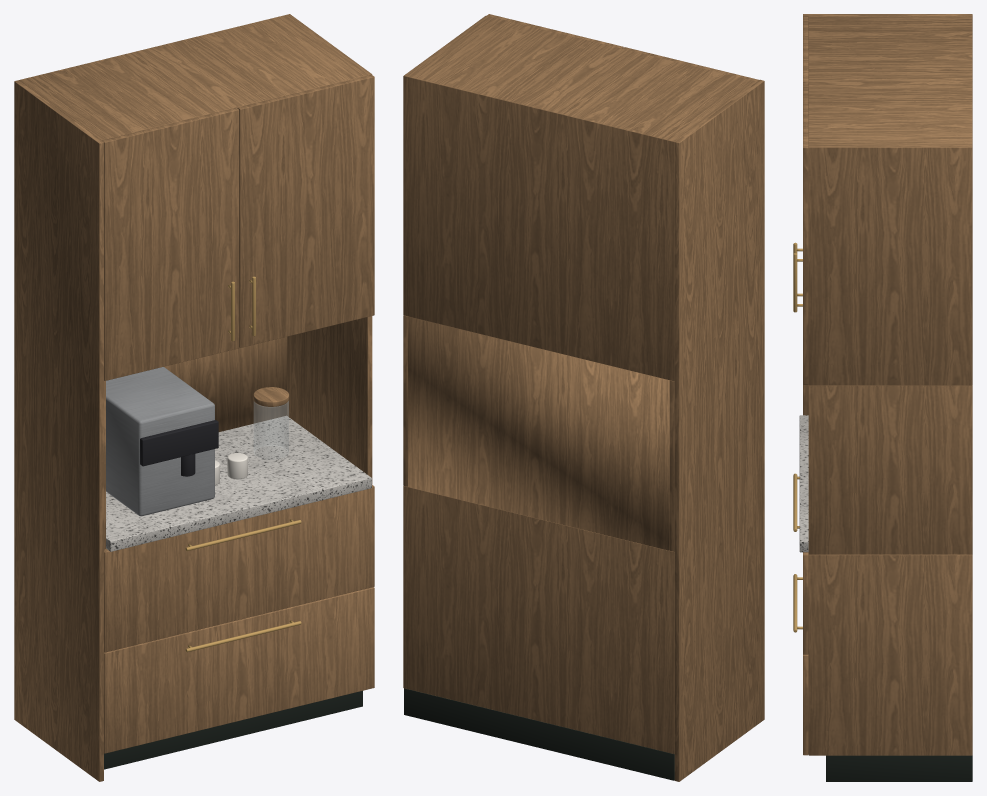
The model's file is kitchen-larder.glb.
3 renders of one model, left to right at view 1: azimuth 30°, elevation 25°; view 2: azimuth 150°, elevation 25°; view 3: azimuth 270°, elevation 25°, orthographic.
Visible parts, largest first — view 1: kitchen-larder; view 2: kitchen-larder; view 3: kitchen-larder.
Part boxes in pixels (x1,y1,x2,y2): kitchen-larder: (14, 14, 374, 781); kitchen-larder: (403, 14, 764, 781); kitchen-larder: (793, 14, 972, 781).
Bounding box in the file's own units: 1.09 × 2.4 × 0.6135.
10 materials, 3 textured.
